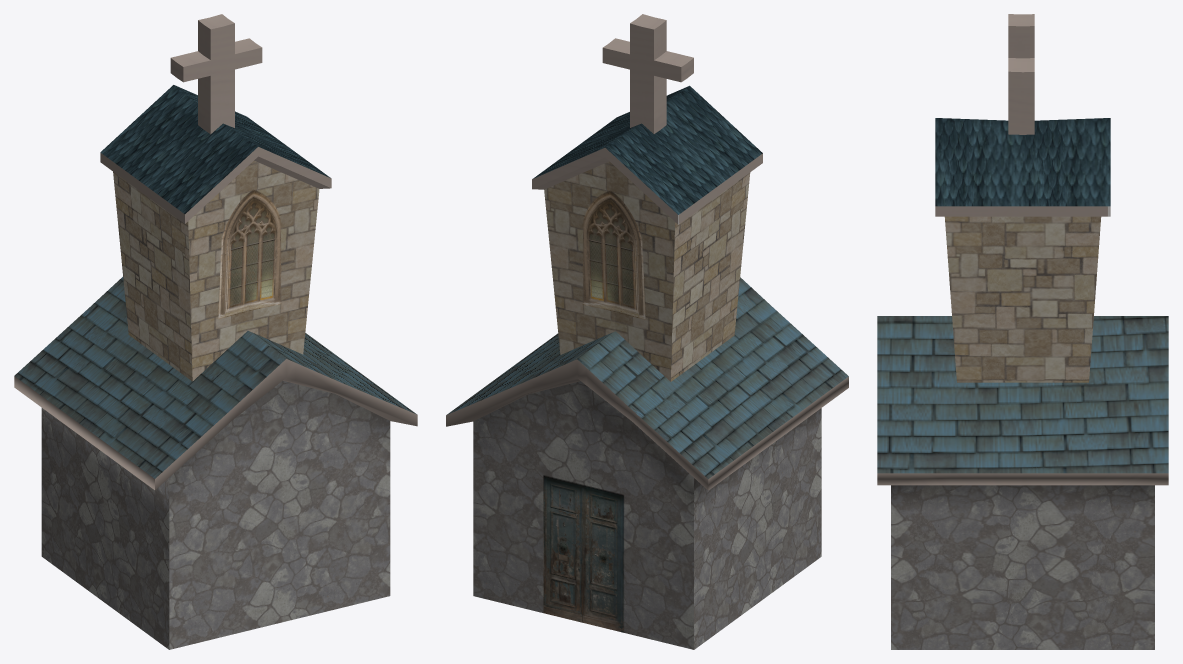
File: house_chapel.fbx
The picture shows the model from 3 angles, left to right: view 1: azimuth 30°, elevation 25°; view 2: azimuth 150°, elevation 25°; view 3: azimuth 270°, elevation 25°; orthographic projection. The views are drawn at different scales.
Visible parts, largest first — view 1: pCube6; view 2: pCube6; view 3: pCube6.
Boxes of the visible parts, left/top/right/bottom form: pCube6: left=14, top=14, right=417, bottom=649; pCube6: left=446, top=14, right=848, bottom=649; pCube6: left=877, top=14, right=1168, bottom=649.
Bounding box in the file's own units: 535 × 1079 × 496.
1 material, 1 textured.
